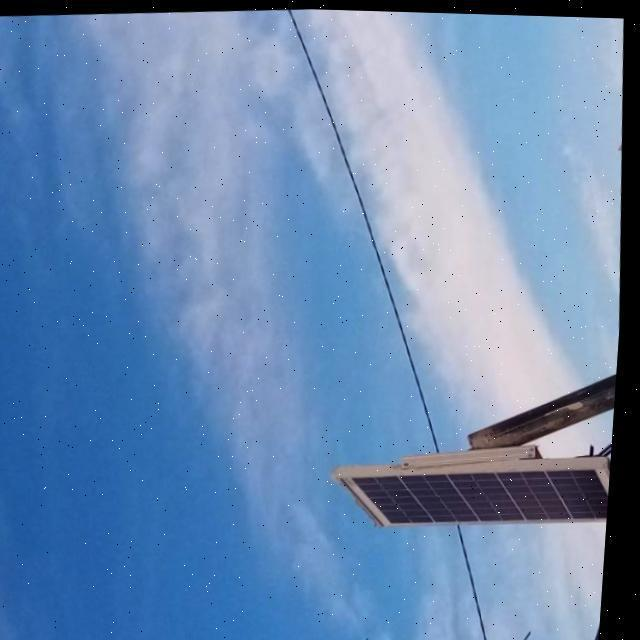Normal Solar Panel: (339, 456, 616, 532)
